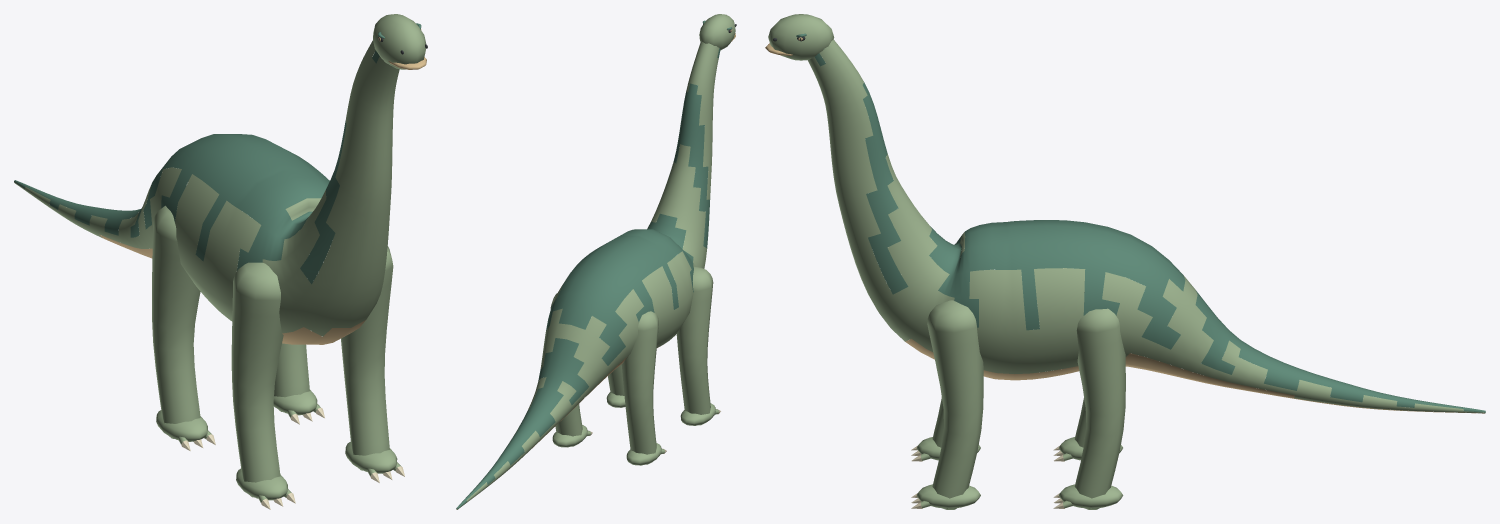
File: primeval-frontier-brachiosaurus-4fbe010a__1716.glb
The picture shows the model from 3 angles, left to right: view 1: azimuth 30°, elevation 25°; view 2: azimuth 150°, elevation 25°; view 3: azimuth 270°, elevation 25°; orthographic projection. The views are drawn at different scales.
Parts seen in each view (by area): view 1: brachiosaurus; view 2: brachiosaurus; view 3: brachiosaurus.
Part boxes in pixels (box(x1,y1,x2,y2)): brachiosaurus: box(14, 14, 427, 509); brachiosaurus: box(456, 14, 736, 509); brachiosaurus: box(765, 14, 1485, 509).
Bounding box in the file's own units: 2.98 × 9.76 × 13.6.
